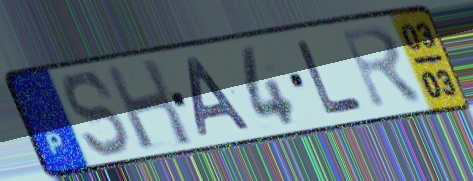4: (238, 42, 300, 128)
A: (184, 55, 256, 139)
H: (101, 55, 197, 153)
L: (291, 36, 368, 118)
R: (337, 22, 429, 114)
S: (61, 69, 135, 161)
